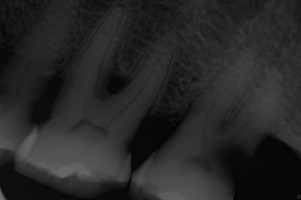Endo-Periodontal Lesion: (107, 69, 131, 93)
